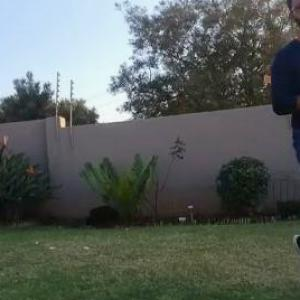follow: (264, 0, 299, 296)
